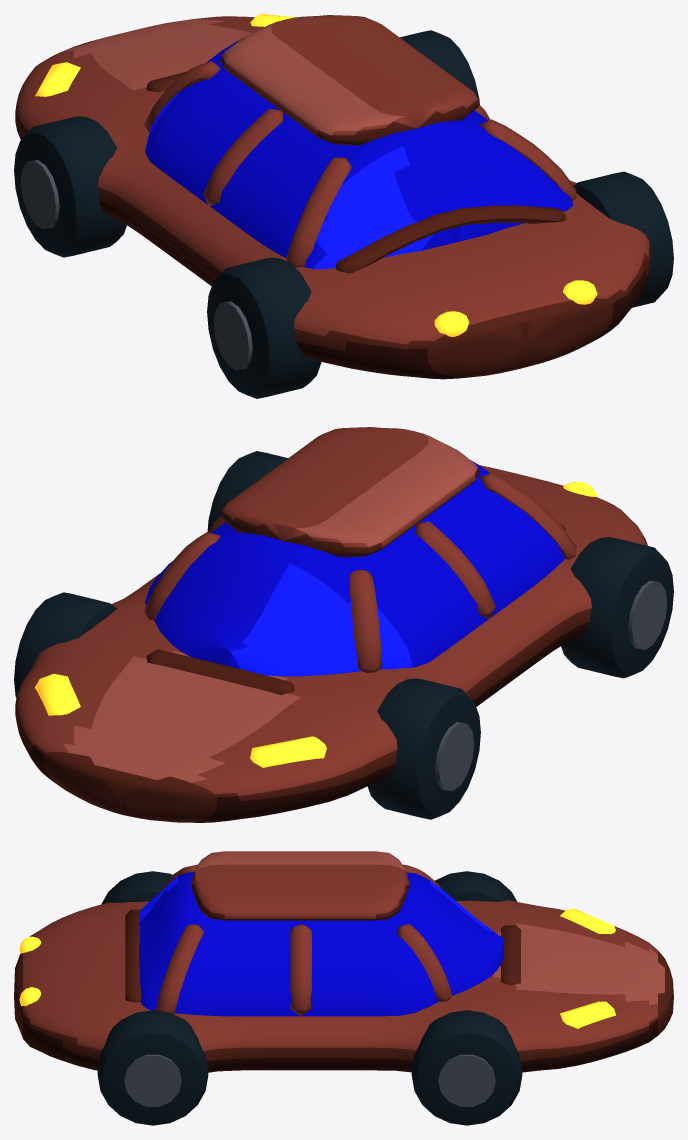
The model's file is copper_car.glb.
3 views of the same model, one above another, from view 1: azimuth 30°, elevation 25°; view 2: azimuth 150°, elevation 25°; view 3: azimuth 270°, elevation 25° (orthographic). The views are drawn at different scales.
Visible parts, largest first — view 1: body, glass, roof, tyre-1-6, tyre-1+4, tyre1-6, sill, pillar2l, pillar1l, hub-1+4, hub-1-6, tyre1+4 (+5 smaller); view 2: body, glass, roof, tyre-1+4, tyre-1-6, tyre1+4, pillar0l, cowl, pillar1l, tyre1-6, hub-1+4, hub-1-6 (+4 smaller); view 3: body, glass, roof, tyre1-6, tyre1+4, hub1+4, hub1-6, pillar1r, pillar2r, tyre-1+4, tyre-1-6, pillar0r (+4 smaller).
Part boxes in pixels (left/top/right/bottom): body: left=15, top=16, right=650, bottom=379; glass: left=145, top=40, right=573, bottom=269; roof: left=220, top=15, right=479, bottom=145; tyre-1-6: left=207, top=257, right=321, bottom=398; tyre-1+4: left=14, top=116, right=126, bottom=257; tyre1-6: left=573, top=171, right=673, bottom=307; sill: left=335, top=205, right=565, bottom=273; pillar2l: left=285, top=157, right=351, bottom=267; pillar1l: left=203, top=108, right=283, bottom=206; hub-1+4: left=20, top=160, right=59, bottom=228; hub-1-6: left=213, top=301, right=252, bottom=370; tyre1+4: left=400, top=30, right=479, bottom=104; body: left=15, top=465, right=647, bottom=822; glass: left=145, top=460, right=565, bottom=676; roof: left=220, top=427, right=479, bottom=557; tyre-1+4: left=367, top=678, right=480, bottom=819; tyre-1-6: left=561, top=537, right=673, bottom=678; tyre1+4: left=14, top=592, right=116, bottom=697; pillar0l: left=349, top=569, right=382, bottom=672; cowl: left=146, top=649, right=294, bottom=694; pillar1l: left=416, top=521, right=495, bottom=618; tyre1-6: left=207, top=451, right=287, bottom=531; hub-1+4: left=435, top=722, right=474, bottom=790; hub-1-6: left=628, top=580, right=667, bottom=649; body: left=14, top=900, right=673, bottom=1072; glass: left=139, top=872, right=503, bottom=1016; roof: left=190, top=851, right=409, bottom=920; tyre1-6: left=97, top=1010, right=208, bottom=1125; tyre1+4: left=411, top=1010, right=522, bottom=1125; hub1+4: left=438, top=1054, right=495, bottom=1106; hub1-6: left=124, top=1054, right=181, bottom=1106; pillar1r: left=290, top=924, right=311, bottom=1016; pillar2r: left=156, top=924, right=204, bottom=1013; tyre-1+4: left=435, top=871, right=517, bottom=901; tyre-1-6: left=101, top=871, right=172, bottom=904; pillar0r: left=397, top=924, right=452, bottom=1001.
Bounding box in the file's own units: 13.14 × 6.43 × 22.07.
